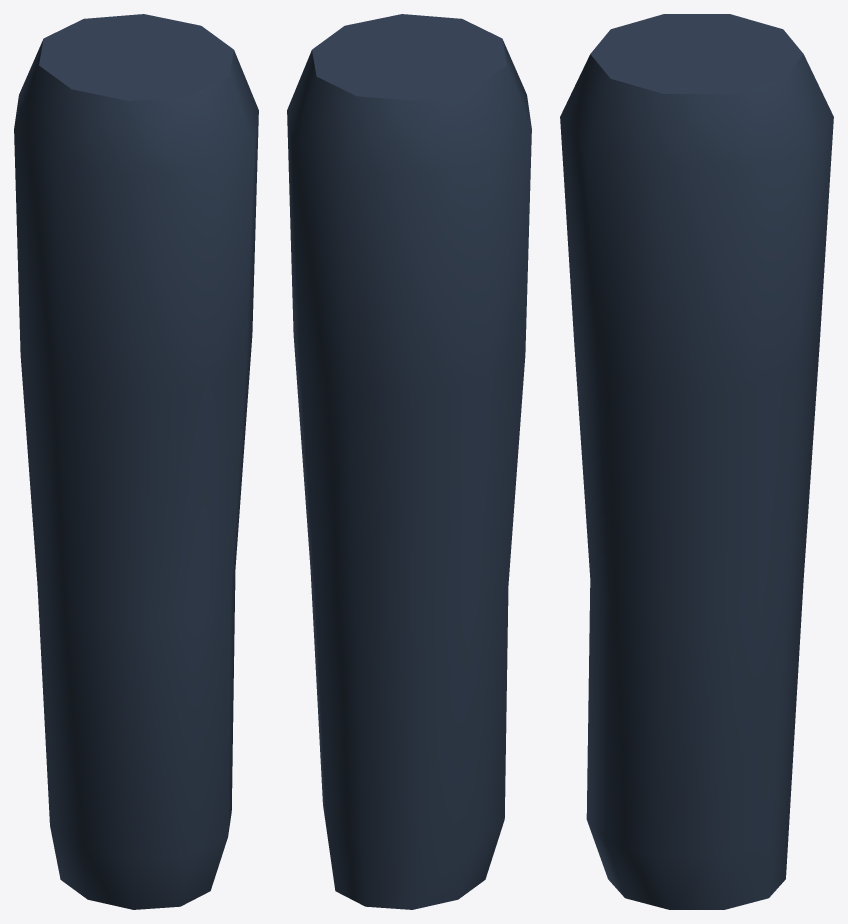
File: muslo_izq.obj
3 views of the same model, side by side, from view 1: azimuth 30°, elevation 25°; view 2: azimuth 150°, elevation 25°; view 3: azimuth 270°, elevation 25° (orthographic).
Parts seen in each view (by area): view 1: muslo_izq; view 2: muslo_izq; view 3: muslo_izq.
Boxes of the visible parts, <box> form: muslo_izq: <box>14,14,258,909</box>; muslo_izq: <box>287,14,531,909</box>; muslo_izq: <box>560,14,833,909</box>.
Bounding box in the file's own units: 0.1331 × 0.512 × 0.154.
